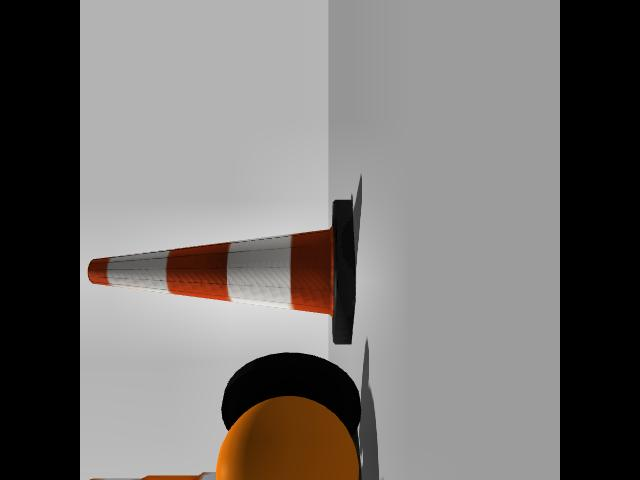target: (190, 351, 373, 480)
